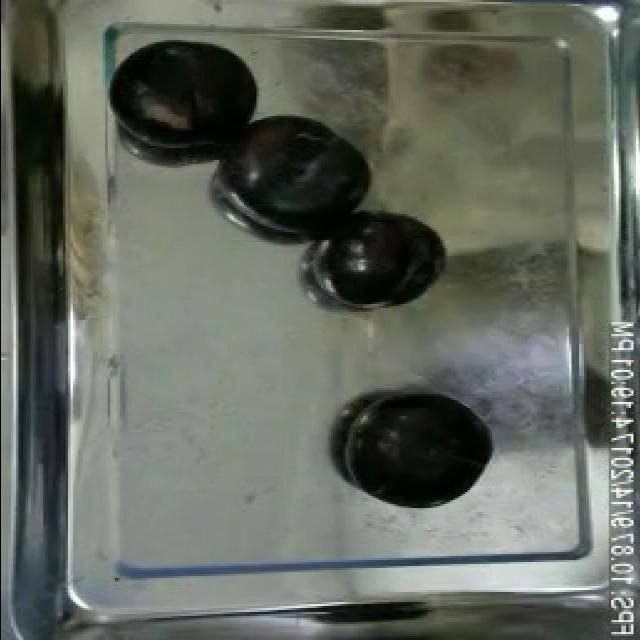Fruit: (223, 108, 379, 238), (339, 390, 498, 512), (104, 34, 268, 146), (313, 208, 439, 310)
